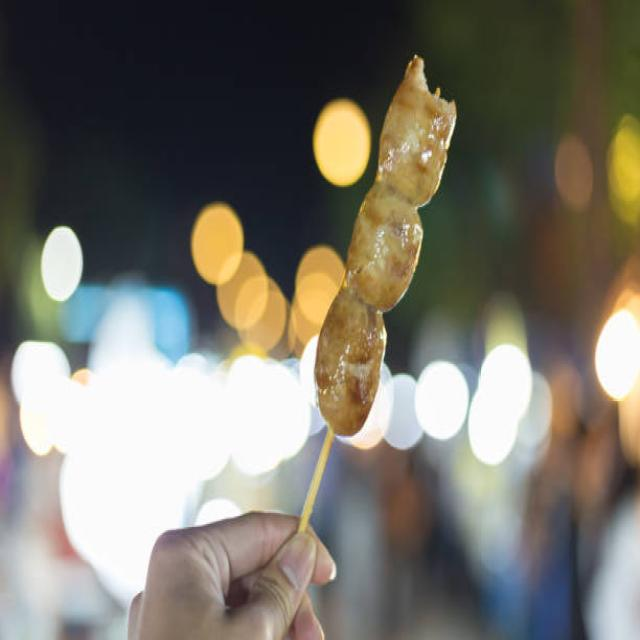Emperan: (128, 26, 509, 640)
